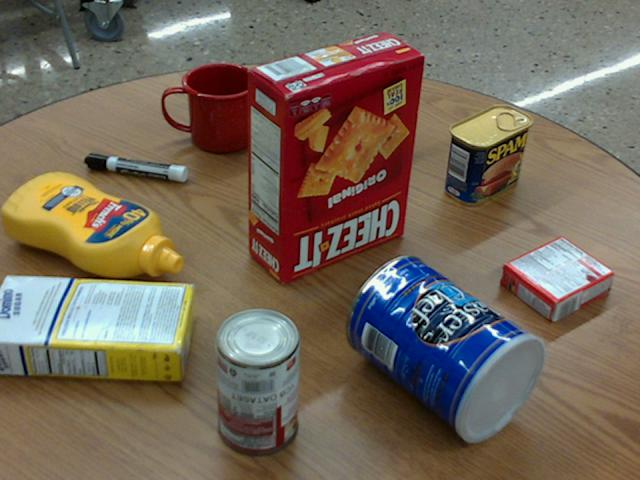cracker_box: (246, 30, 424, 284)
gelatin_box: (499, 234, 613, 321)
large_marker: (85, 153, 187, 181)
master_chef_can: (346, 254, 548, 442)
mug: (162, 63, 258, 153)
mustard_bottle: (2, 171, 182, 278)
potted_meat_can: (445, 104, 532, 206)
sugar_box: (0, 272, 195, 382)
tomato_soup_can: (216, 306, 302, 454)
tuna_fish_can: (330, 81, 401, 155)
